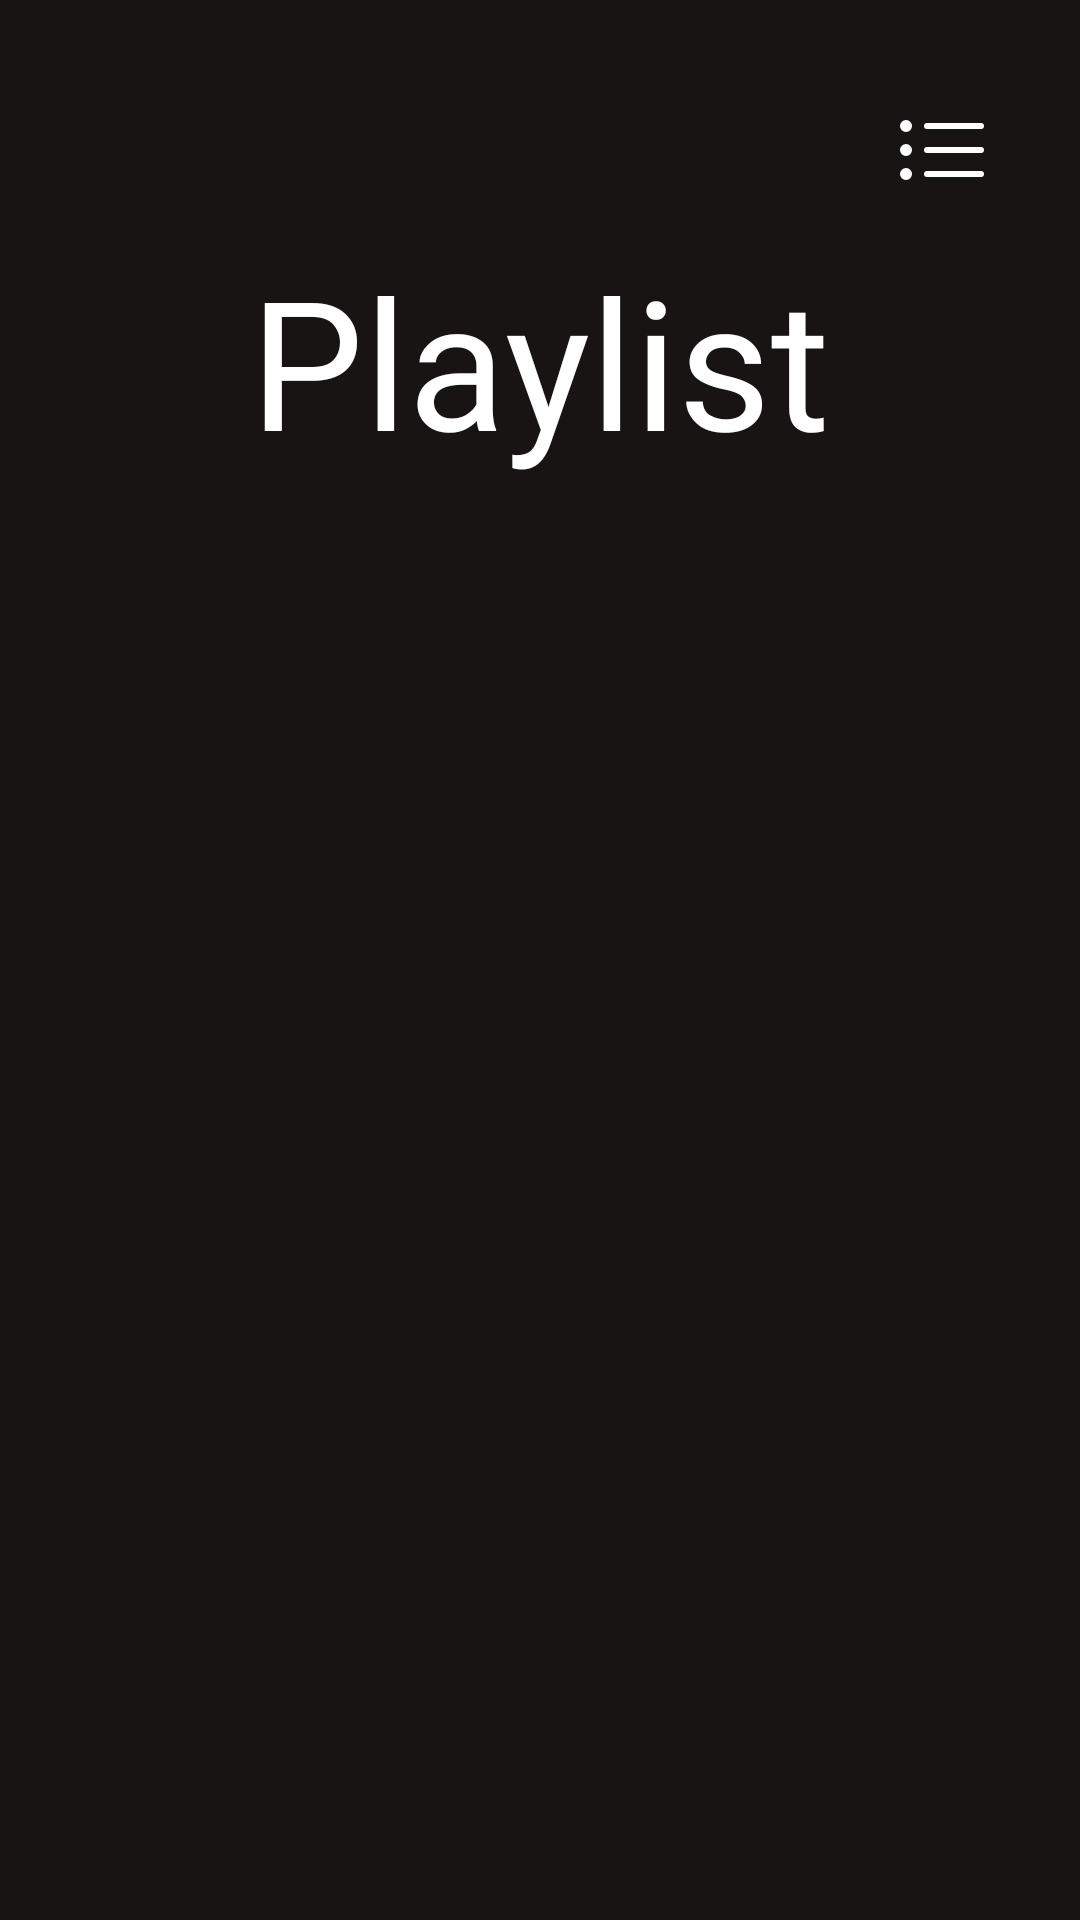

Icons on this 1080*1920 Android screen, each with its box as box(x1, y1, x2, y2):
queue: box(900, 120, 984, 180)
